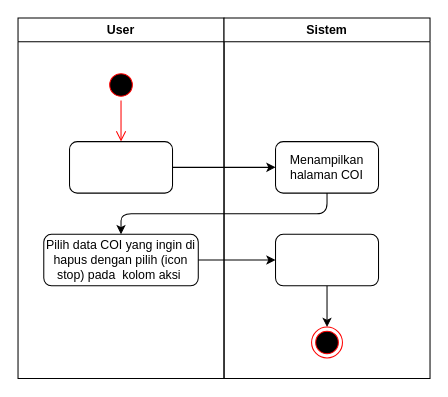
Image size: 448x397. Some labels were removed from this diagram. Here are the shapes that lost their labels. From the top down, the centre of each, then its label:
At [120,167]: "Pilih fitur COI".
At [326,259]: "Perubahan data tersimpan".
